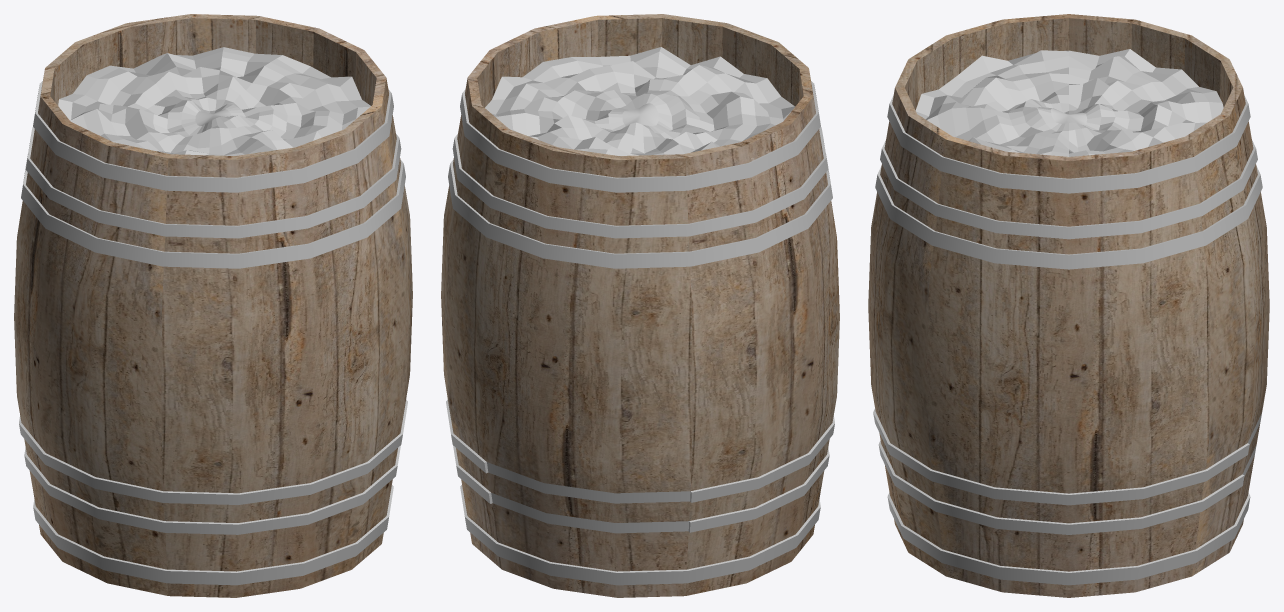
File: woodenBarrelAnimatedWater02.FBX
3 views of the same model, side by side, from view 1: azimuth 30°, elevation 25°; view 2: azimuth 150°, elevation 25°; view 3: azimuth 270°, elevation 25° (orthographic).
Parts seen in each view (by area): view 1: woodenBarrel01, waterInside; view 2: woodenBarrel01, waterInside; view 3: woodenBarrel01, waterInside.
Boxes of the visible parts, x1,y1,x2,y2 form: woodenBarrel01: [14, 14, 412, 597]; waterInside: [58, 47, 370, 155]; woodenBarrel01: [441, 14, 839, 597]; waterInside: [485, 47, 795, 155]; woodenBarrel01: [868, 14, 1269, 597]; waterInside: [915, 49, 1223, 156].
Bounding box in the file's own units: 0.7496 × 0.9 × 0.7496.
